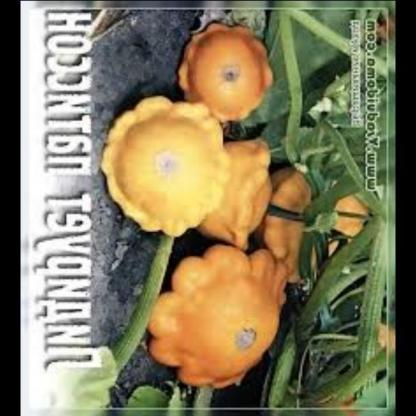squash-patisson: (143, 232, 292, 400), (101, 86, 225, 240), (165, 8, 287, 127), (201, 122, 282, 254), (266, 159, 321, 282)
